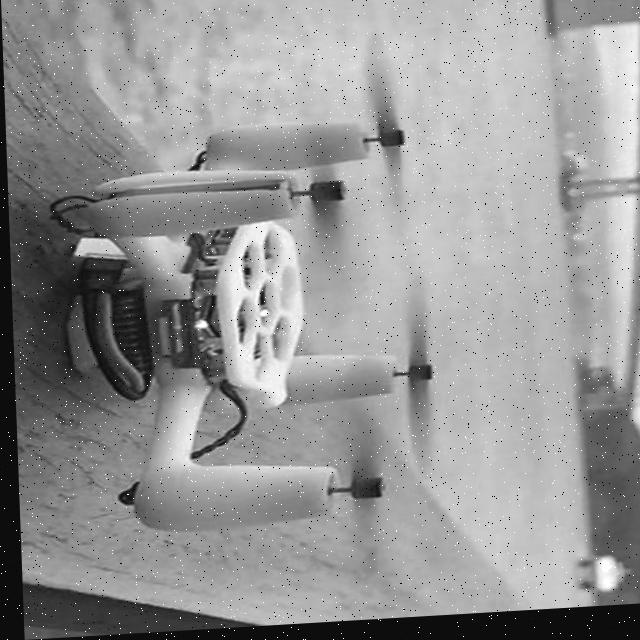drone: (90, 57, 465, 566)
